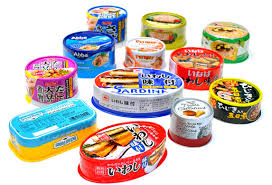can: (6, 3, 264, 181)
